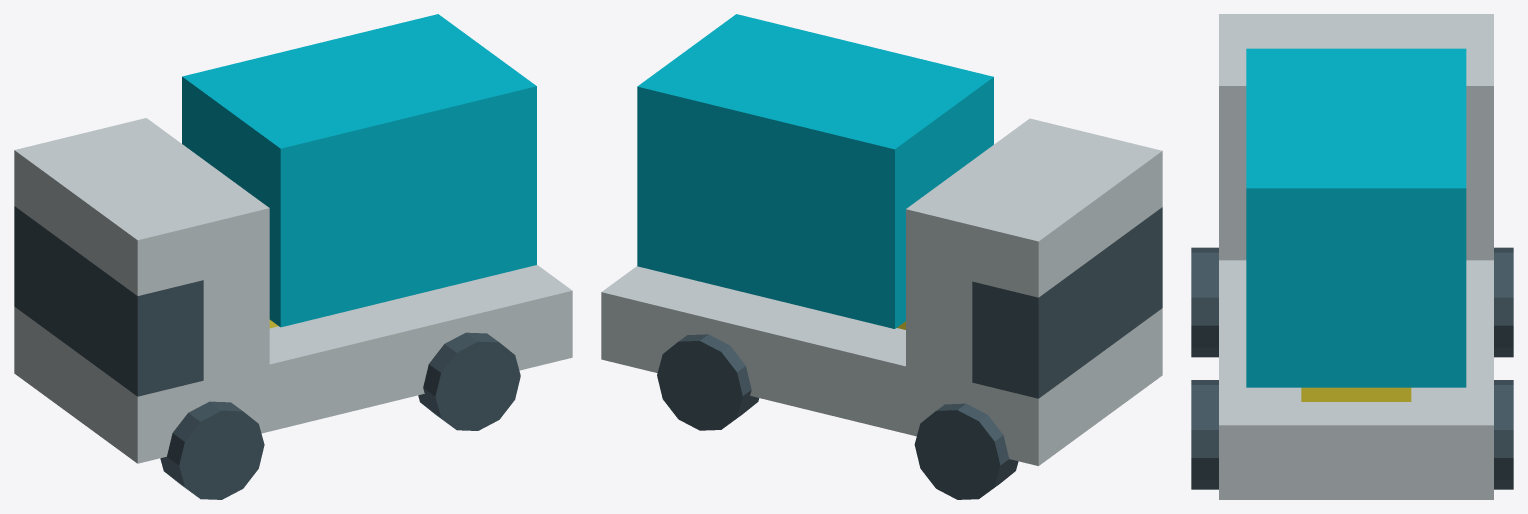
File: truck.obj
3 views of the same model, side by side, from view 1: azimuth 30°, elevation 25°; view 2: azimuth 150°, elevation 25°; view 3: azimuth 270°, elevation 25° (orthographic). The views are drawn at different scales.
Parts seen in each view (by area): view 1: mesh81506427; view 2: mesh81506427; view 3: mesh81506427.
Part boxes in pixels (<box>): mesh81506427: <box>14,14,572,499</box>; mesh81506427: <box>601,14,1162,499</box>; mesh81506427: <box>1191,14,1513,499</box>.
Size of the model in its own units: 0.2037 by 0.14 by 0.1171.
